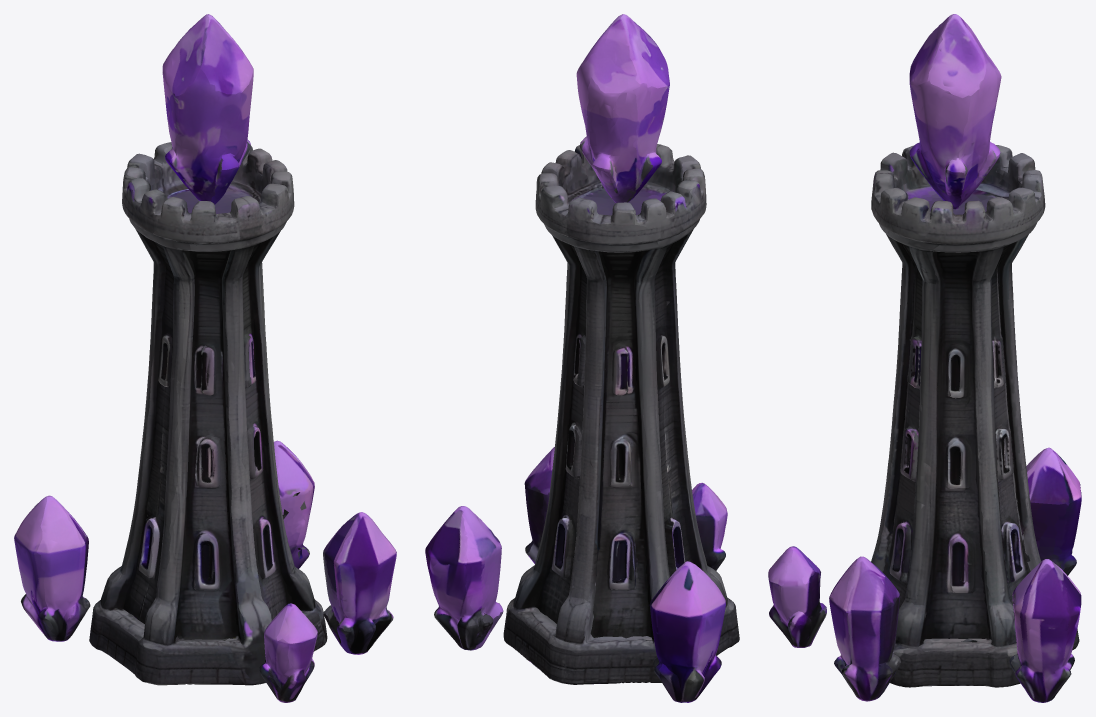
The picture shows the model from 3 angles, left to right: view 1: azimuth 30°, elevation 25°; view 2: azimuth 150°, elevation 25°; view 3: azimuth 270°, elevation 25°; orthographic projection.
Visible parts, largest first — view 1: textured_mesh; view 2: textured_mesh; view 3: textured_mesh.
Boxes of the visible parts, box(x1,y1,x2,y2) form: textured_mesh: box(14, 14, 396, 702); textured_mesh: box(425, 14, 739, 702); textured_mesh: box(768, 14, 1081, 702).
Size of the model in its own units: 0.9433 by 1.99 by 0.898.
1 material, 1 textured.
